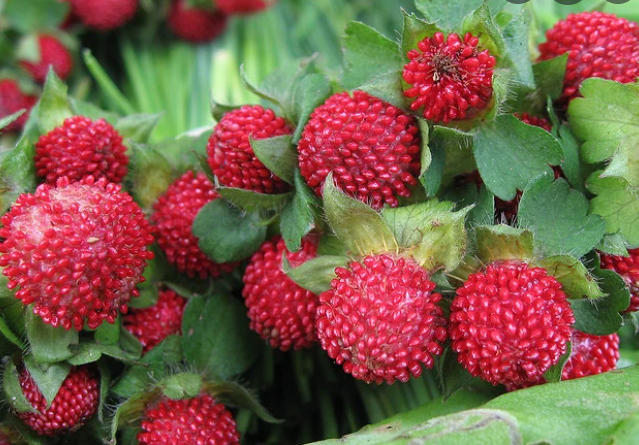ripe: (1, 187, 148, 330), (448, 260, 575, 390), (293, 88, 429, 208), (320, 253, 444, 384), (147, 168, 246, 281), (245, 232, 336, 351), (533, 7, 638, 100), (402, 27, 500, 122), (208, 105, 300, 199), (34, 115, 131, 188), (135, 389, 239, 444), (14, 367, 94, 438), (550, 321, 623, 382), (122, 283, 187, 348), (17, 30, 75, 83), (599, 235, 637, 310), (170, 2, 229, 42), (0, 77, 37, 130), (72, 0, 136, 27)
